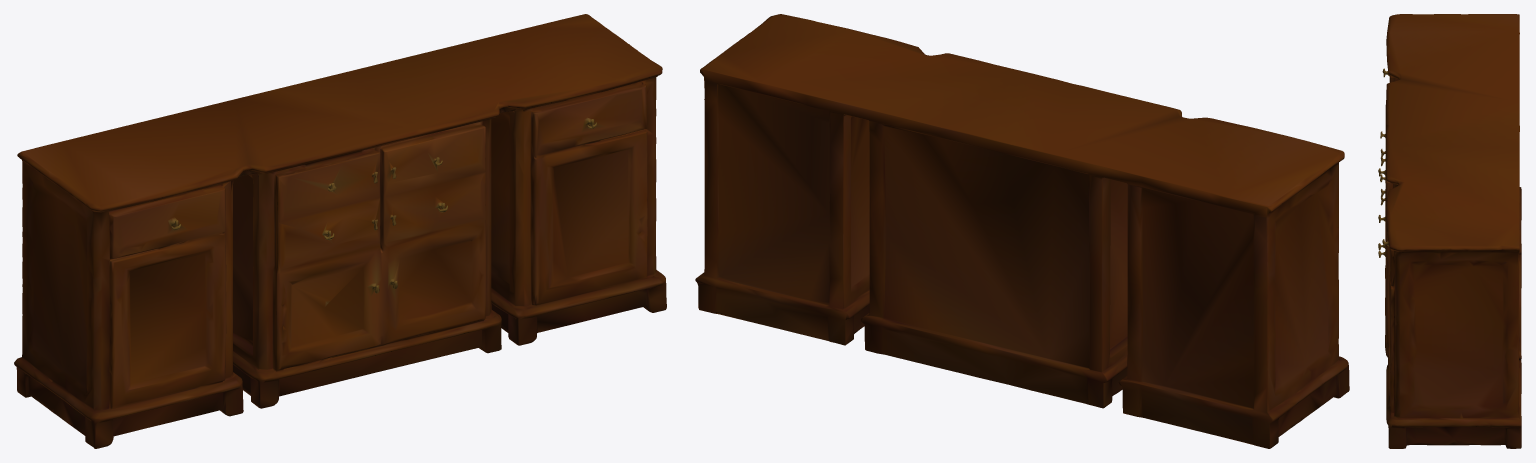
Rendered from sideboard.glb.
3 views of the same model, side by side, from view 1: azimuth 30°, elevation 25°; view 2: azimuth 150°, elevation 25°; view 3: azimuth 270°, elevation 25° (orthographic). The views are drawn at different scales.
Bounding box in the file's own units: 1 × 0.3997 × 0.2566.
